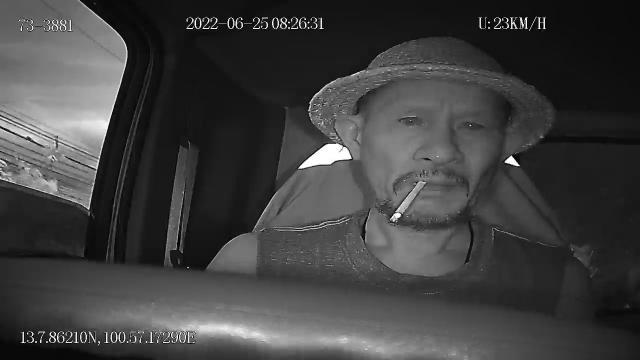SafeDriving: (451, 109, 492, 138), (392, 107, 431, 132)
Smoking: (390, 180, 426, 222)
